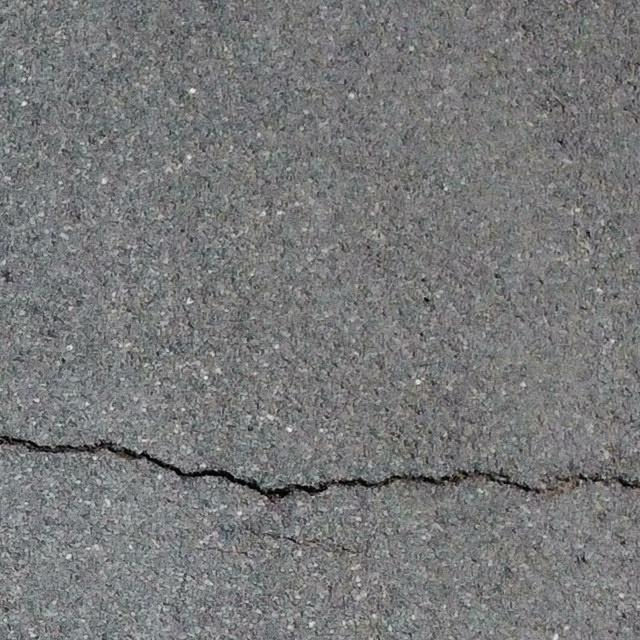TransverseCrack: (1, 433, 640, 498)
